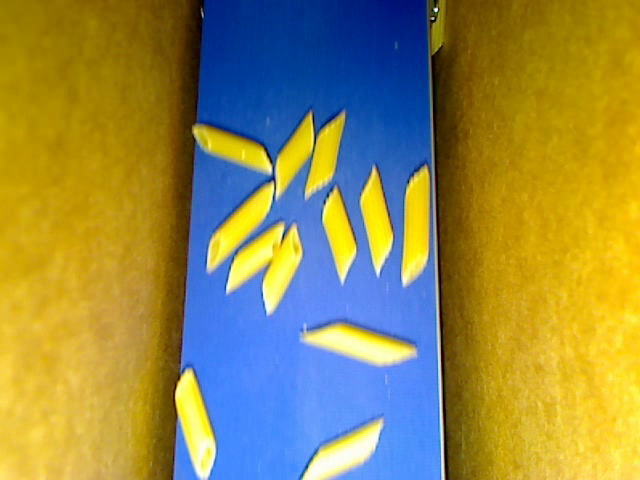penne: (201, 175, 274, 273), (299, 314, 418, 370), (175, 361, 223, 479), (288, 426, 387, 479), (225, 217, 289, 296), (188, 115, 272, 172), (271, 106, 318, 204), (358, 163, 396, 280), (303, 107, 350, 196), (321, 180, 361, 284), (260, 220, 303, 311), (401, 160, 429, 287), (425, 1, 447, 61)
